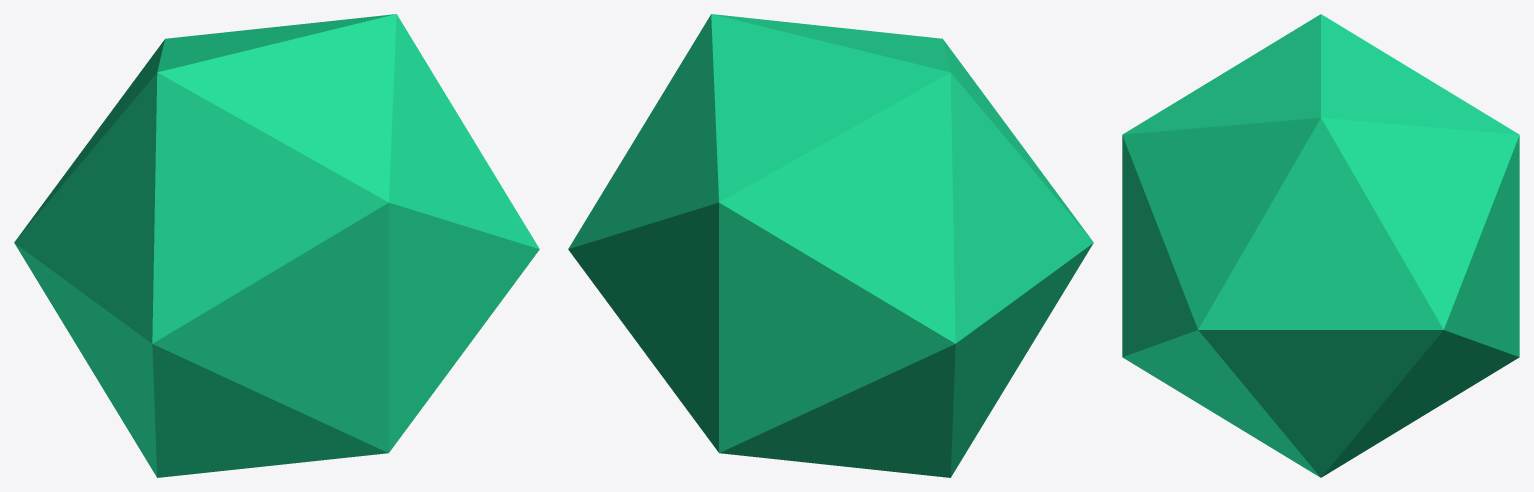
Rendered from Icosahedron.glb.
3 renders of one model, left to right at view 1: azimuth 30°, elevation 25°; view 2: azimuth 150°, elevation 25°; view 3: azimuth 270°, elevation 25°, orthographic. The views are drawn at different scales.
Parts seen in each view (by area): view 1: Icosahedron; view 2: Icosahedron; view 3: Icosahedron.
Part boxes in pixels (box(x1,y1,x2,y2)): Icosahedron: box(14, 14, 539, 477); Icosahedron: box(568, 14, 1093, 477); Icosahedron: box(1122, 14, 1519, 477).
Bounding box in the file's own units: 0.1701 × 0.1701 × 0.1701.
